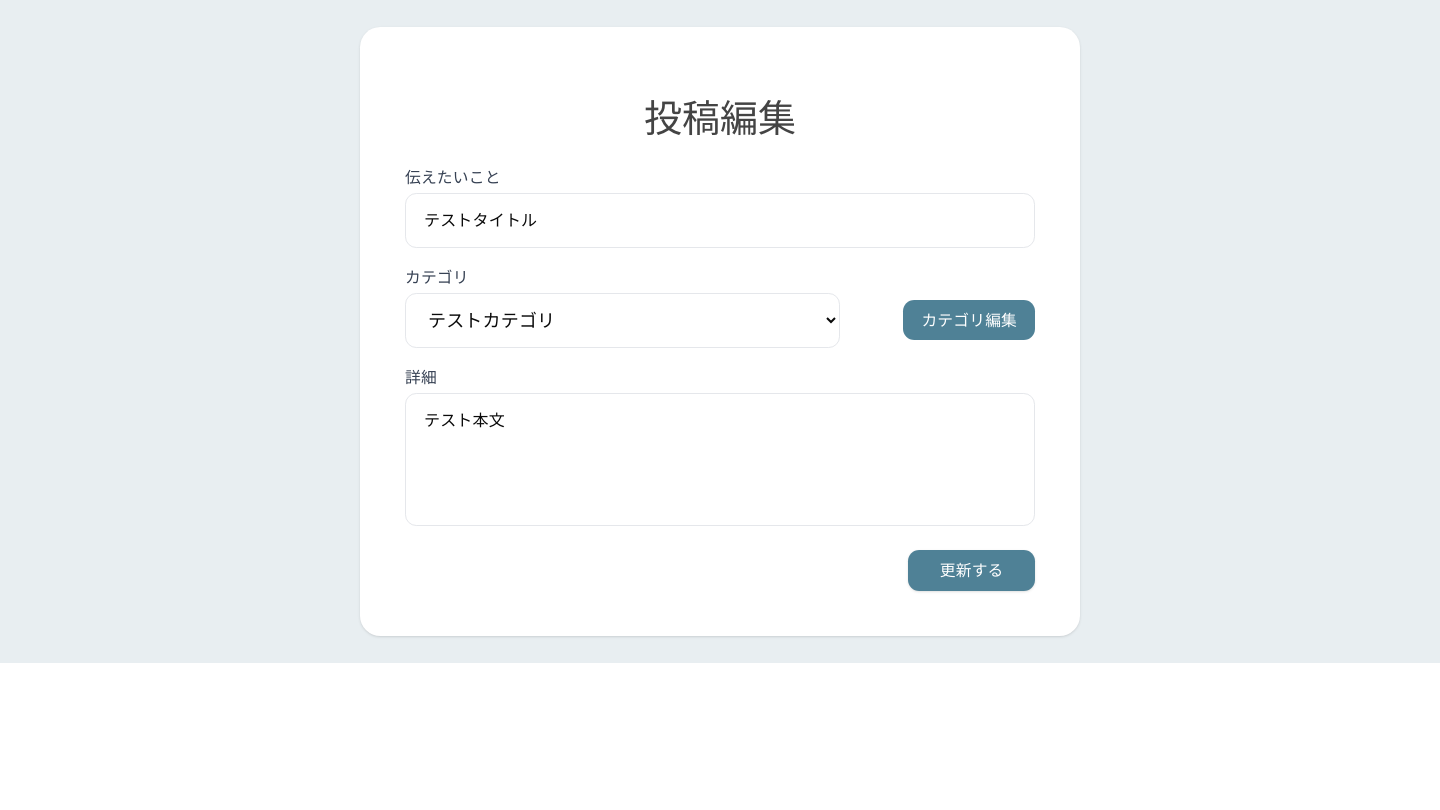
Scenario: PostUpdate › タイトルが空の場合エラーメッセージが表示される
Clear the field showing "テストタイトル" at (720, 220), box x1=405 y1=193 x2=1035 y2=248
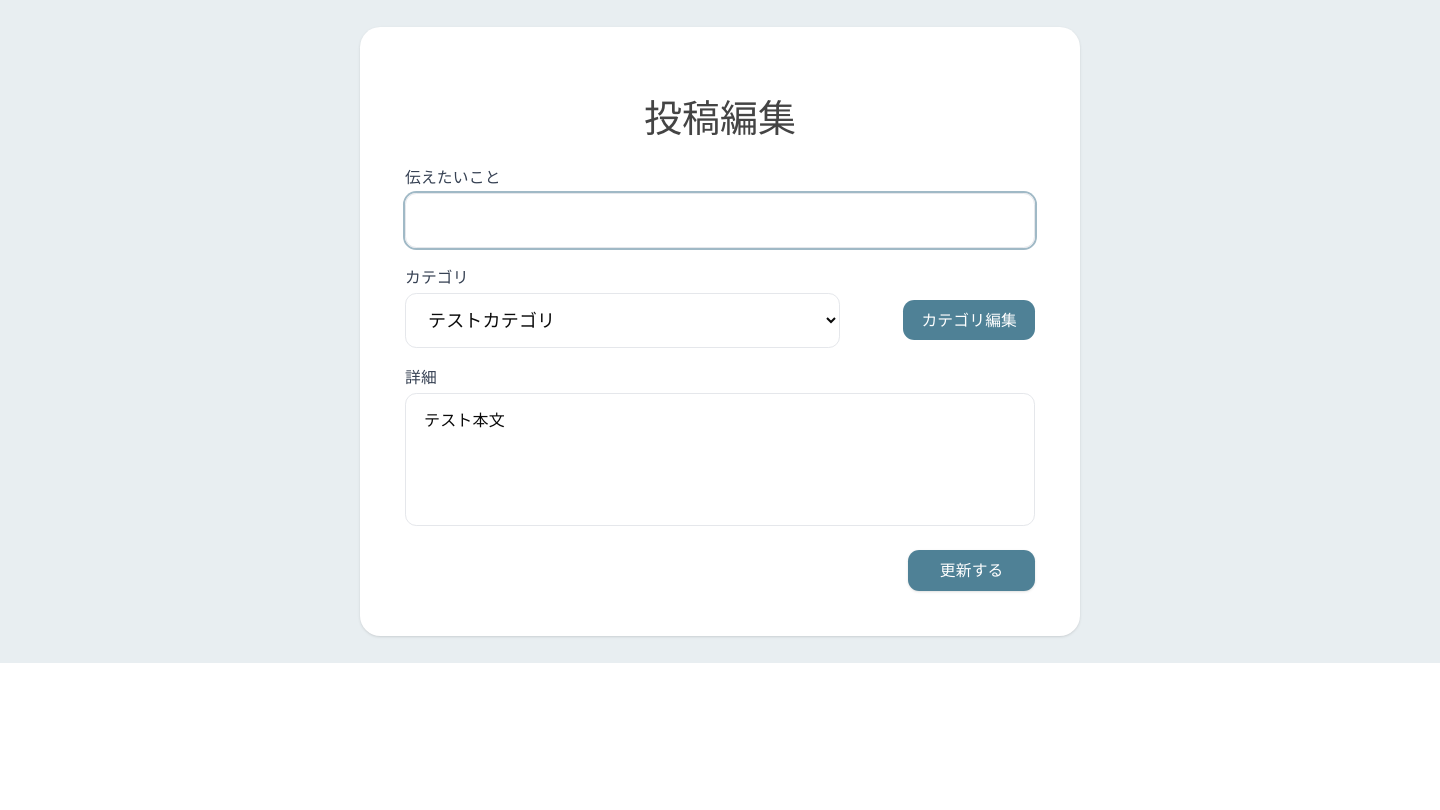
Click the button "更新する" at (972, 570), box x1=908 y1=550 x2=1035 y2=591
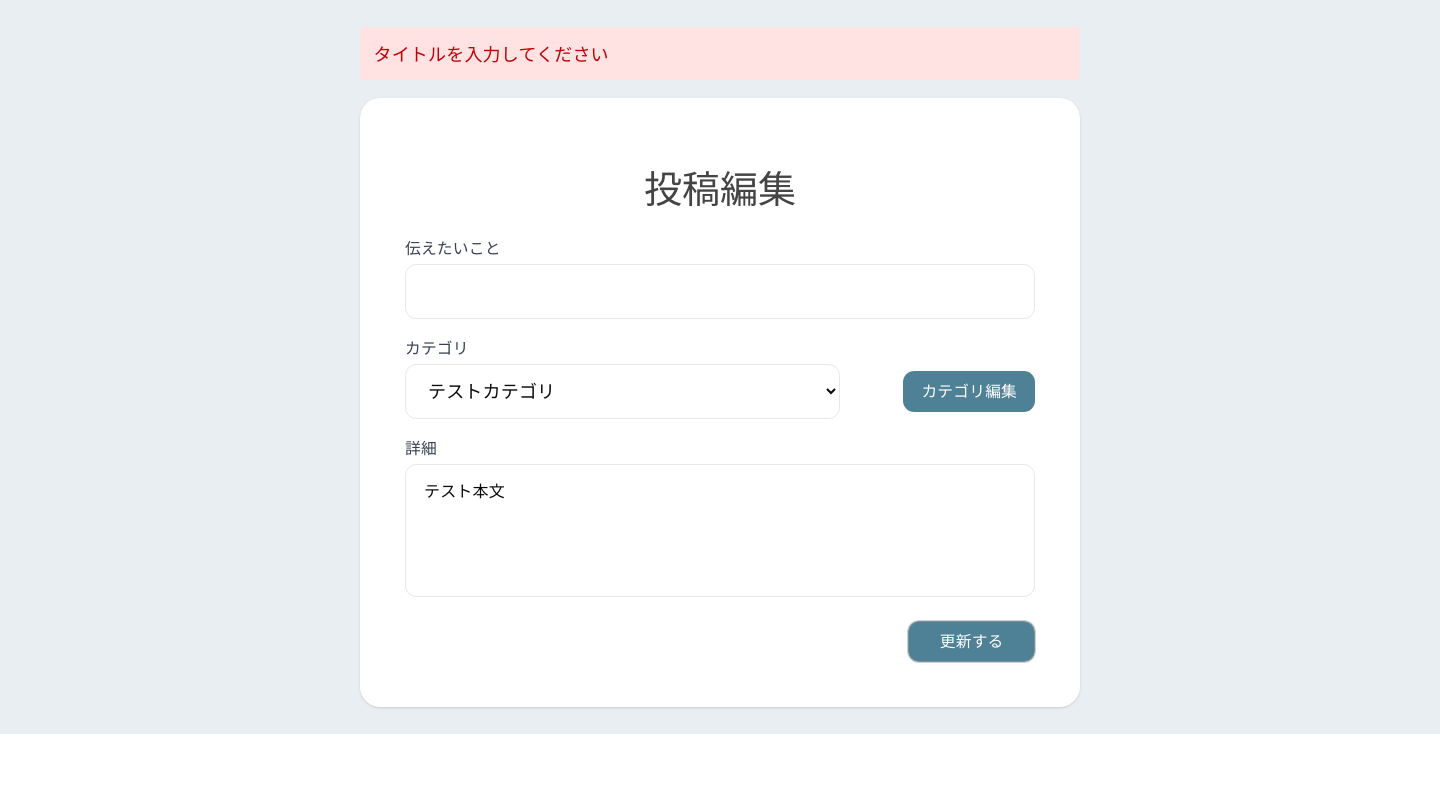
Now the text "タイトルを入力してください" is shown, box x1=360 y1=27 x2=1080 y2=80
